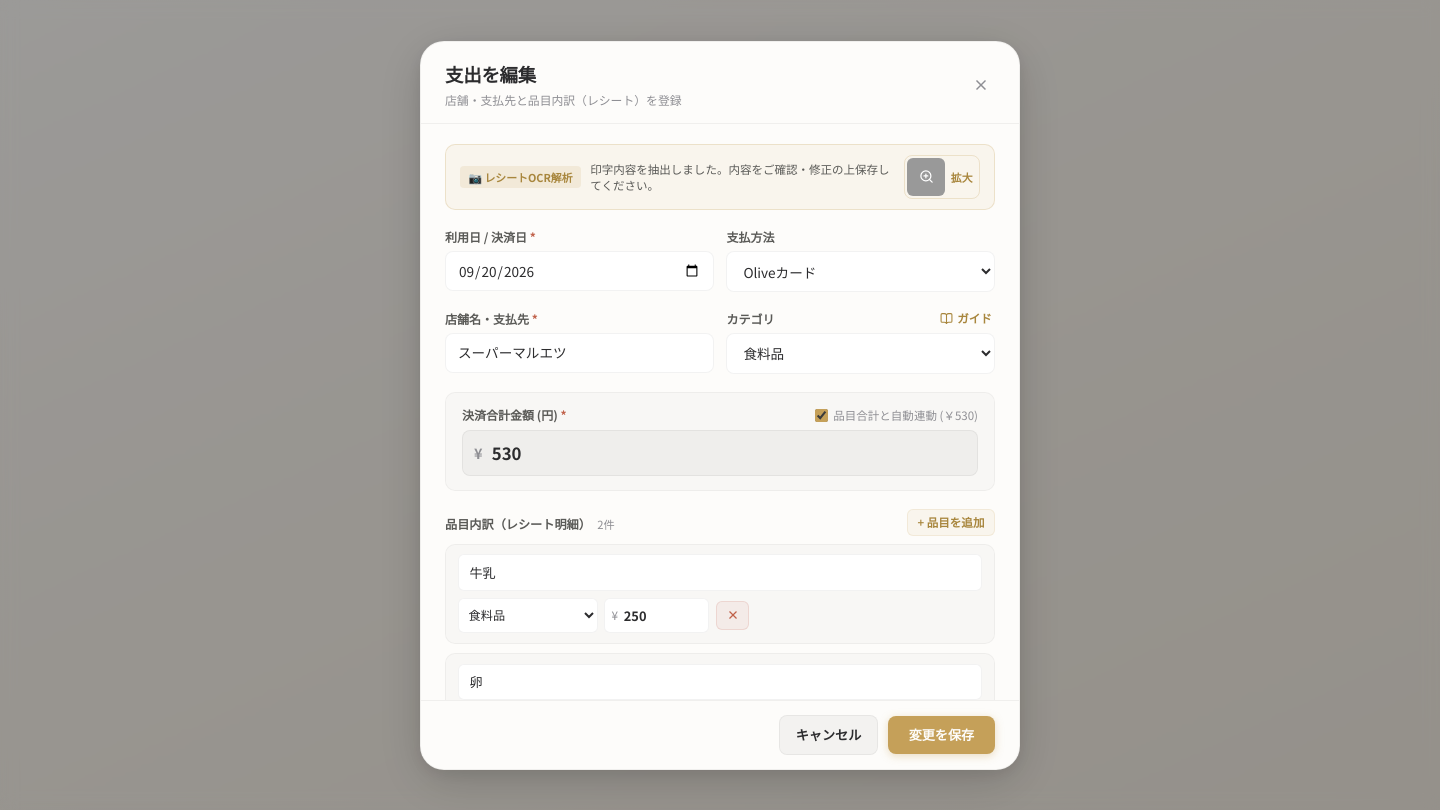
TransactionModal コンポーネント - レシート拡大プレビュー機能 › ライトボックス内の「閉じる」ボタンをクリックすると拡大モーダルが閉じる
Click the button with aria-label "クリックしてレシート写真を拡大表示".
click(942, 176)  # box [904,154,980,198]
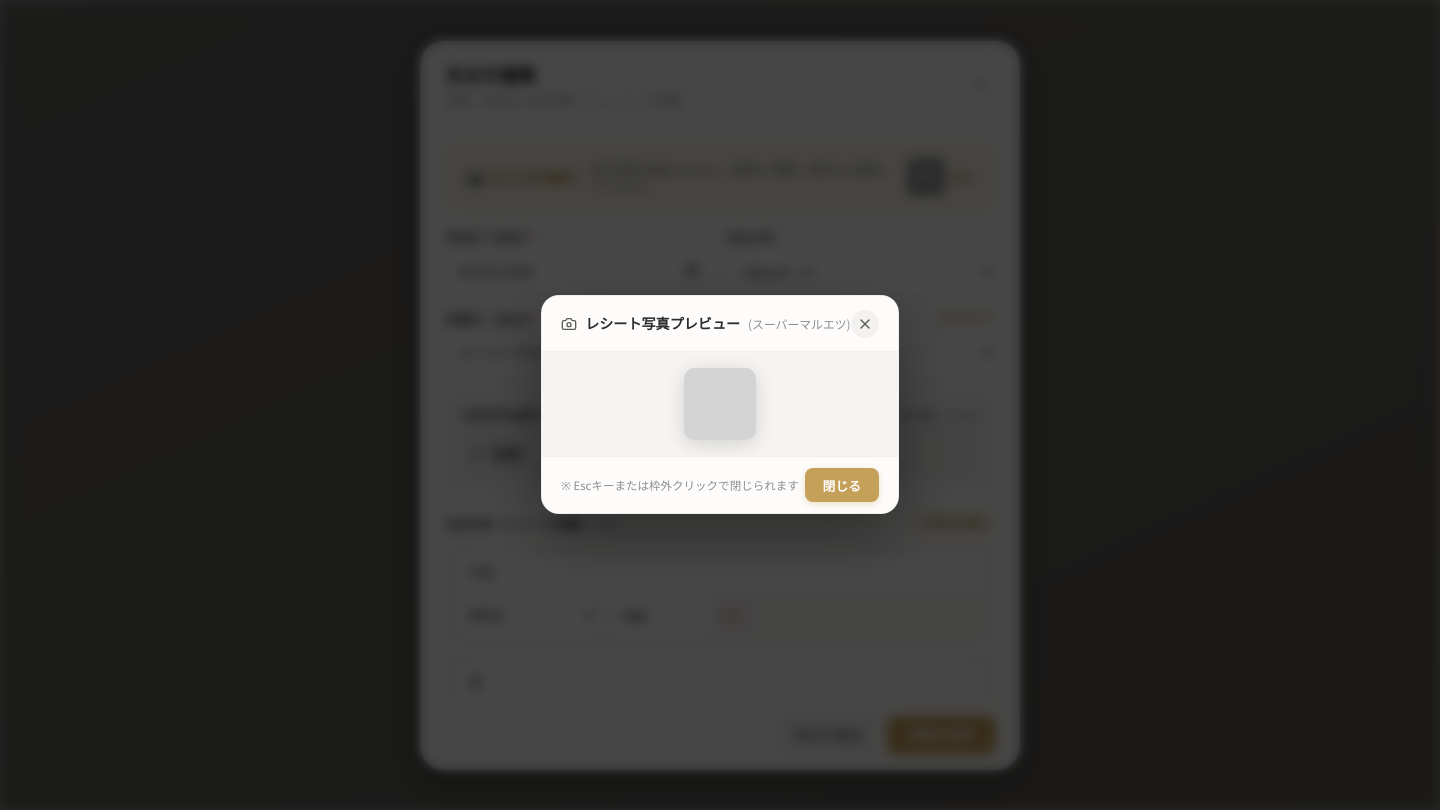
Now the text "レシート写真プレビュー" is shown, box [585,314,740,335]
Now the button named "プレビューを閉じる" is shown
Click the button named "プレビューを閉じる".
click(865, 324)  # box [851,310,879,338]
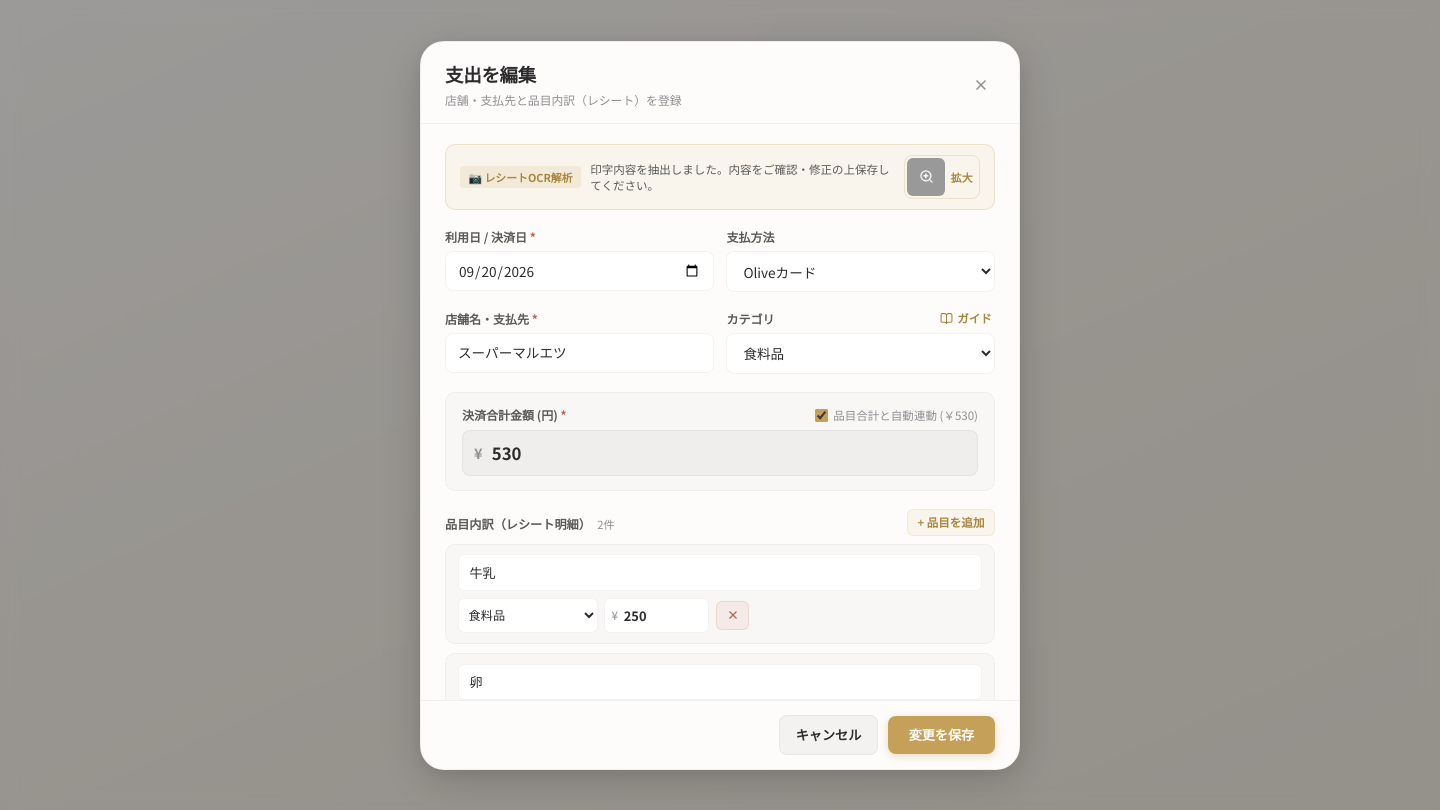
Now the text "レシート写真プレビュー" is gone
